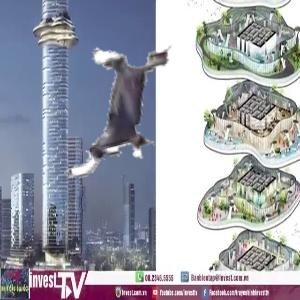drone: (51, 25, 212, 186)
